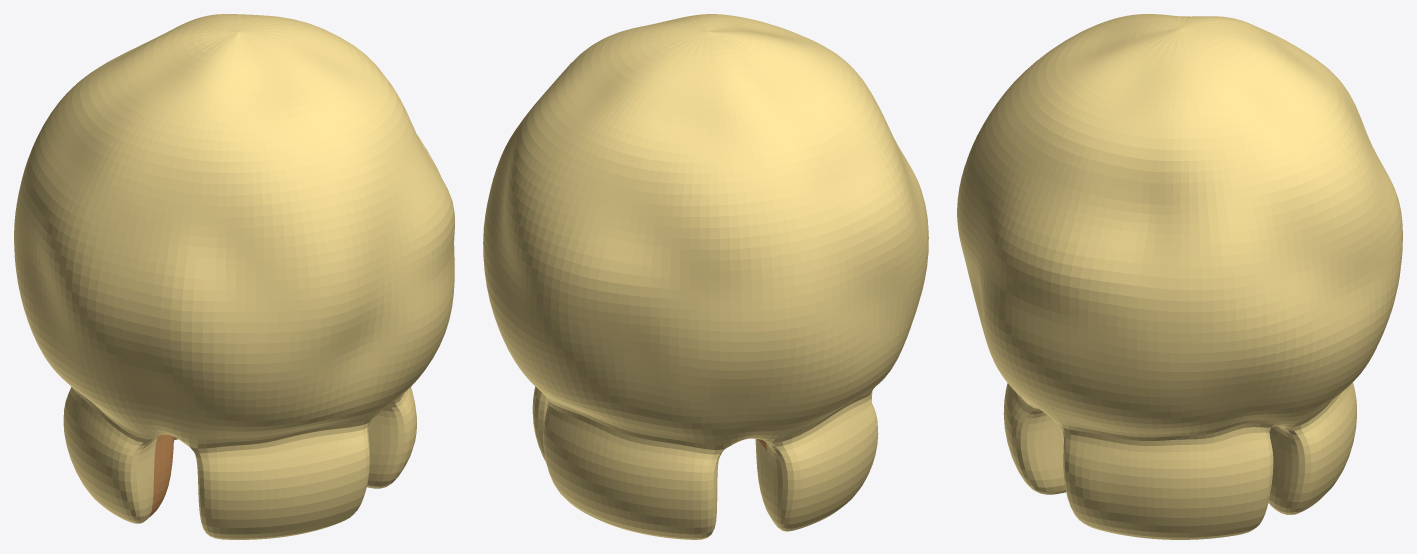
File: popcornknapenki.fbx
3 views of the same model, side by side, from view 1: azimuth 30°, elevation 25°; view 2: azimuth 150°, elevation 25°; view 3: azimuth 270°, elevation 25° (orthographic).
Parts seen in each view (by area): view 1: 球; view 2: 球; view 3: 球.
Part boxes in pixels (x1=…): 球: x1=14, y1=14, x2=454, y2=539; 球: x1=483, y1=14, x2=928, y2=539; 球: x1=957, y1=14, x2=1402, y2=539.
Bounding box in the file's own units: 193 × 215 × 193.
Materials: 1 (1 with a texture image).
